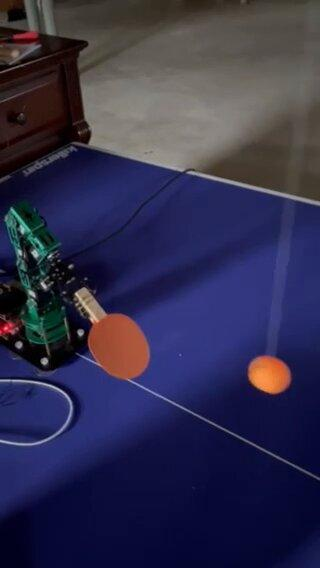oball: (250, 359, 289, 391)
